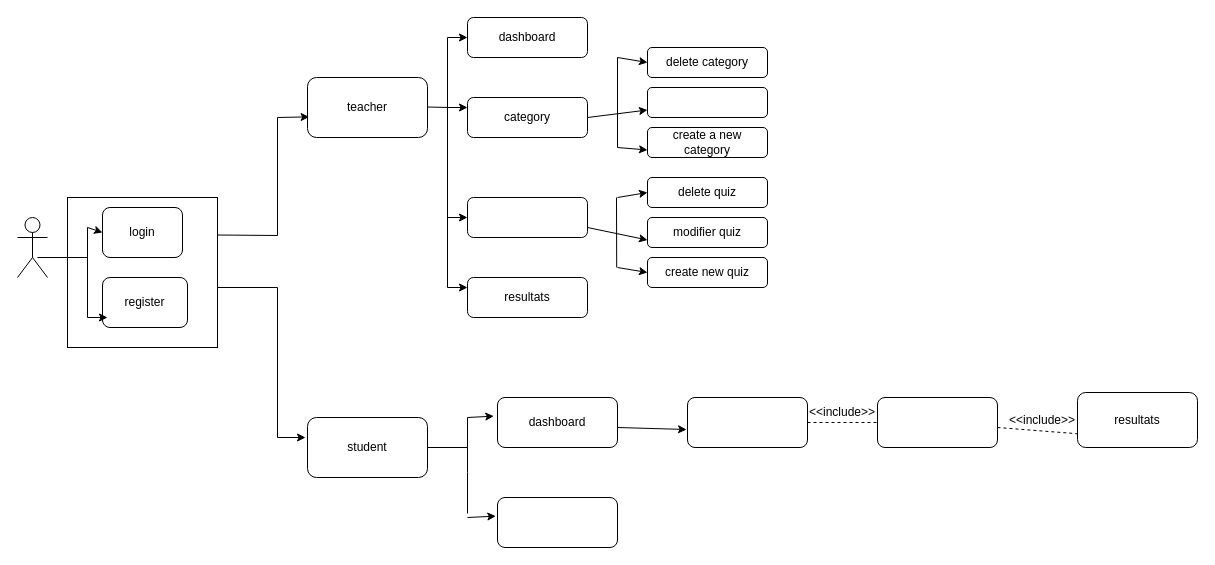
The diagram is 1215 pixels wide and 565 high, and some of its shapes have lost their labels. Each missing label, with the centre of its shape:
"choose une quiz" goes at (747,422).
"history" goes at (557,522).
"modifier category" goes at (707,102).
"quiz" goes at (527,217).
"repondre sur question" goes at (937,422).
